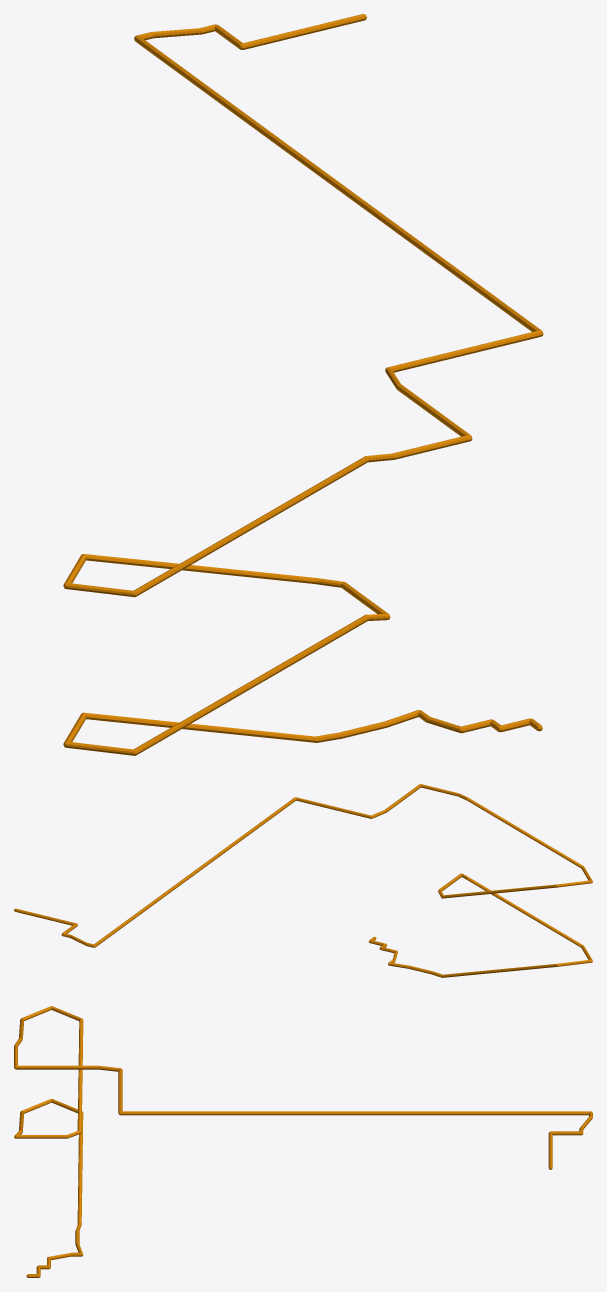
3 views of the same model, one above another, from view 1: azimuth 30°, elevation 25°; view 2: azimuth 150°, elevation 25°; view 3: azimuth 270°, elevation 25° (orthographic). The views are drawn at different scales.
Size of the model in its own units: 2407 by 1020 by 2831.
